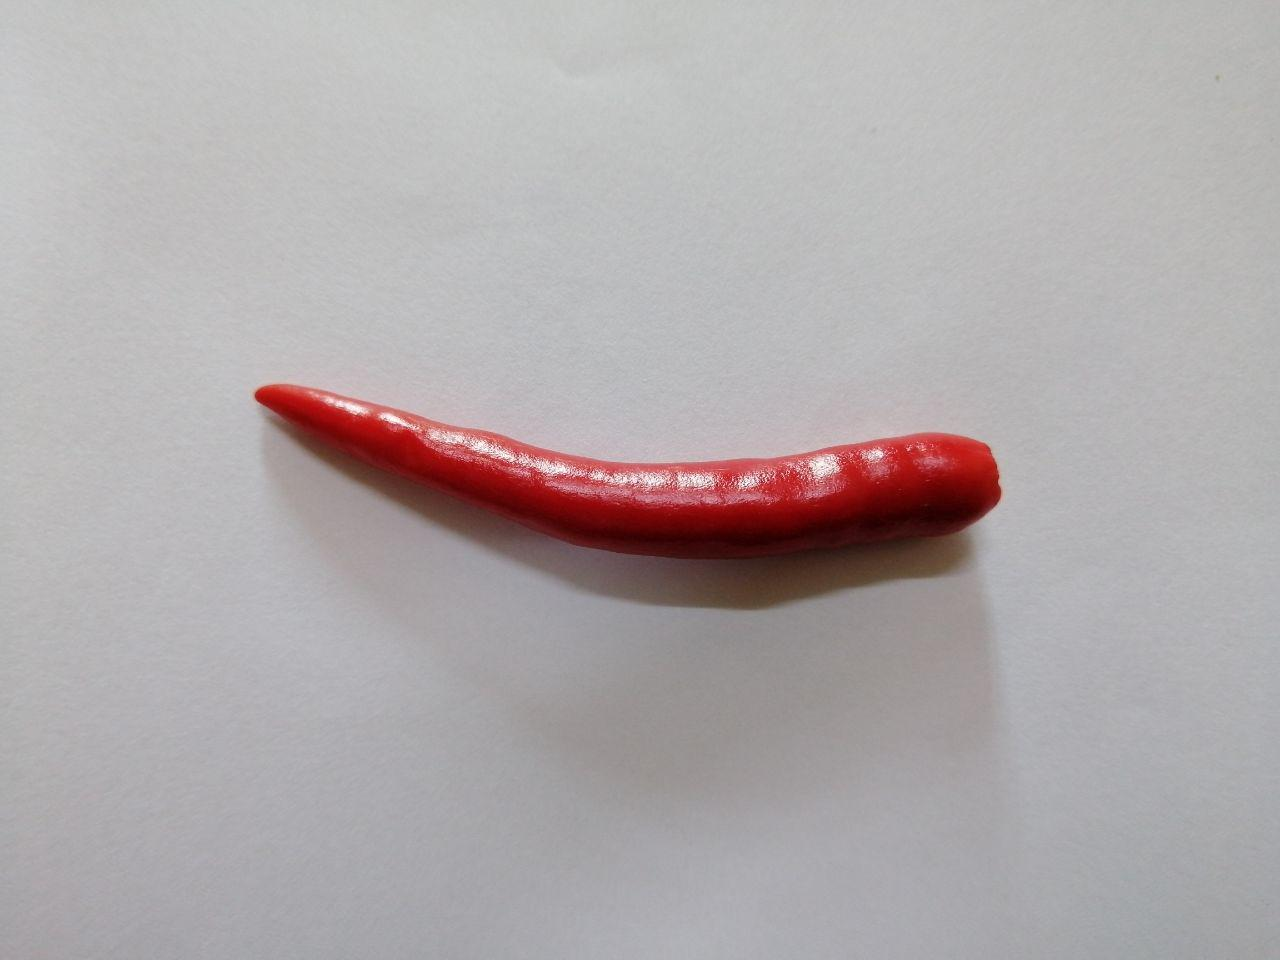lada merah: (205, 356, 1046, 590)
